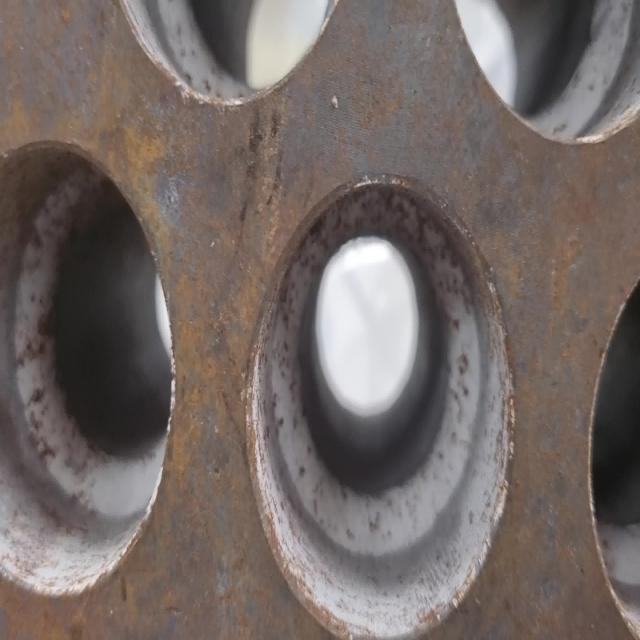Hole: (245, 167, 515, 638), (1, 134, 177, 602), (102, 1, 365, 110), (448, 0, 639, 146)
